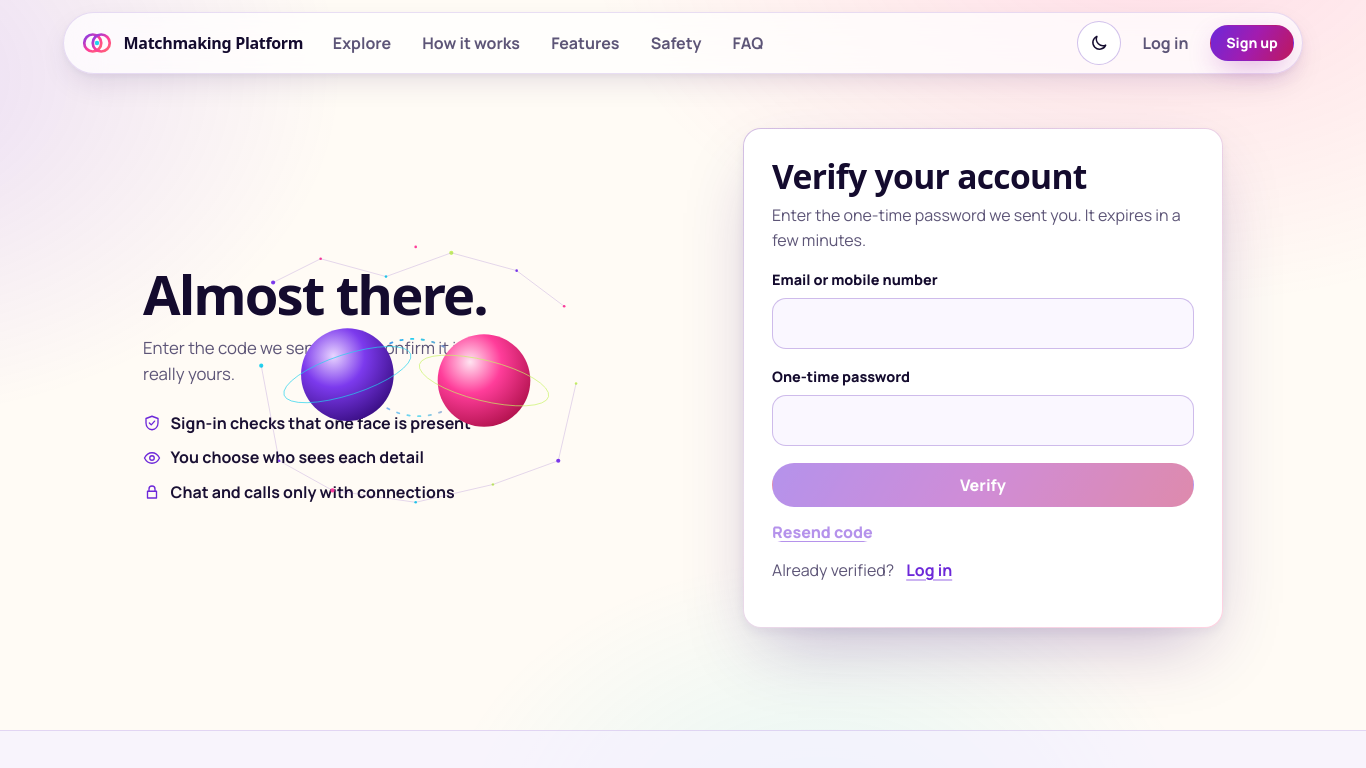
Test: OTP verification page › shows the generic invalid OTP message
Type "9876543210" into the field labelled "Email or mobile number" at (983, 323), box [772, 298, 1194, 348]
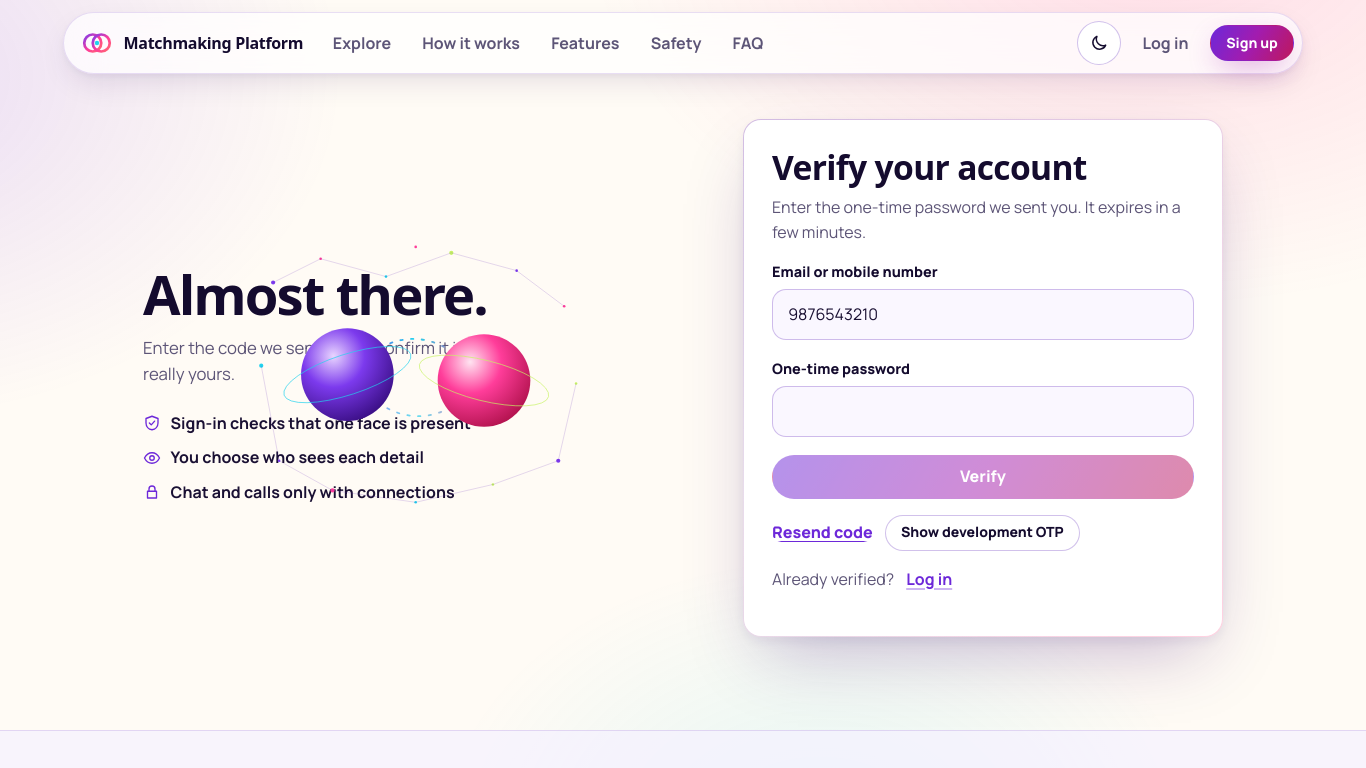
Type "000000" into the field labelled "One-time password" at (983, 412), box [772, 386, 1194, 437]
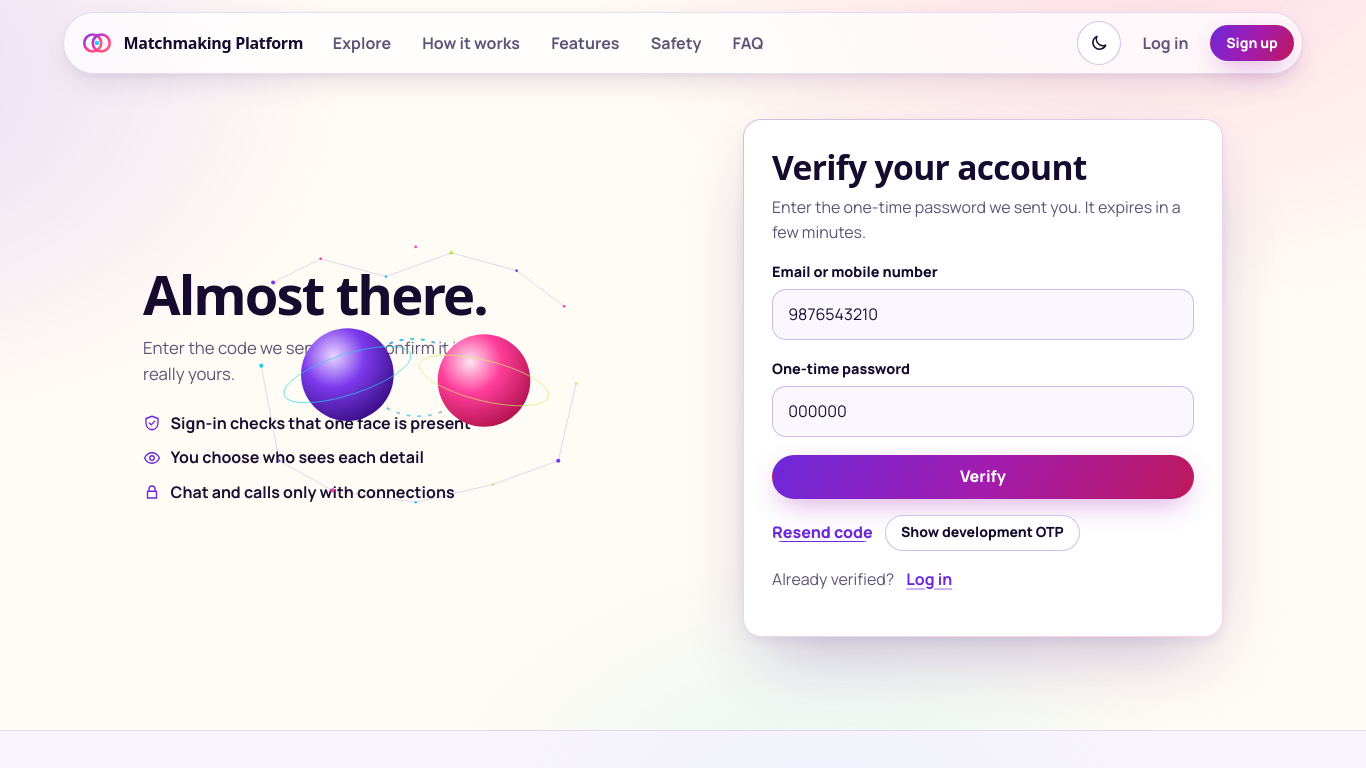
Click the button "Verify" at (983, 477), box [772, 455, 1194, 499]
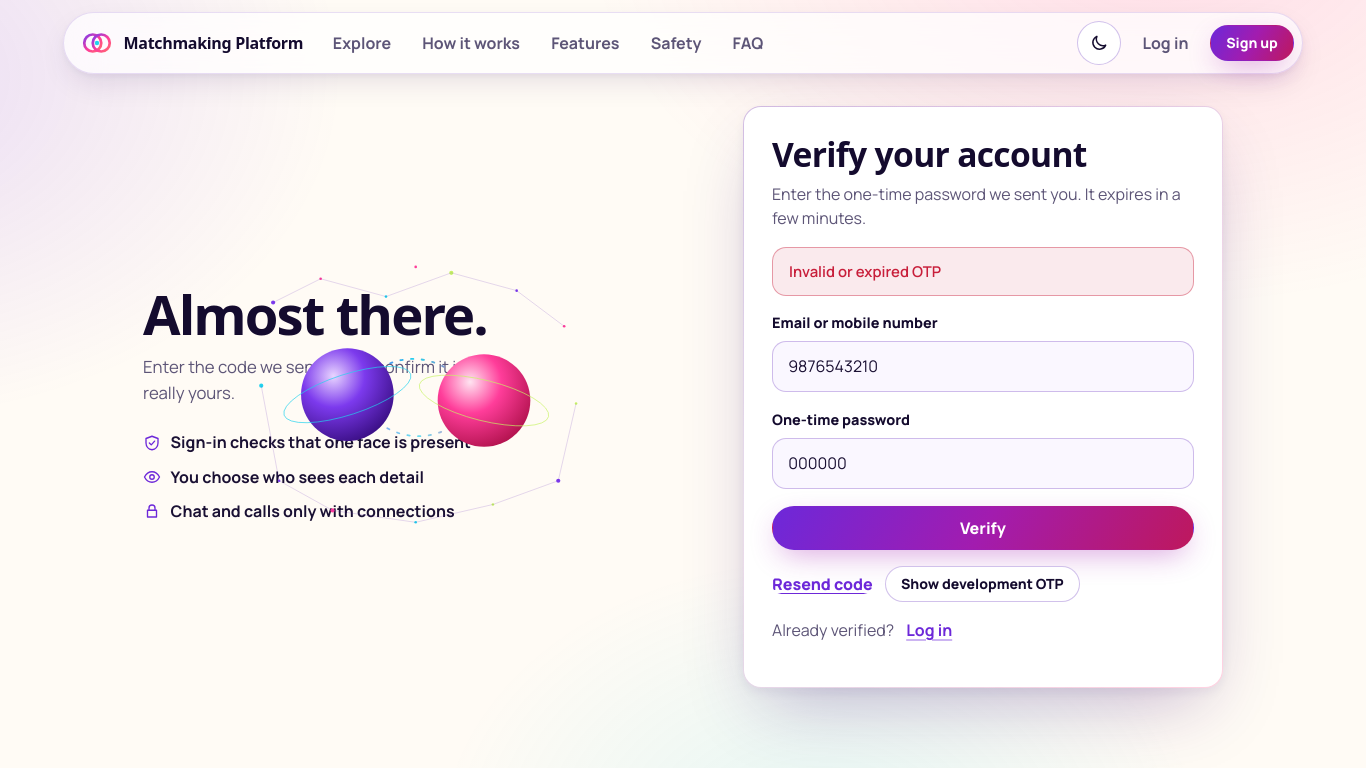
Result: the message reads "Invalid or expired OTP" at [789, 261, 941, 281]
